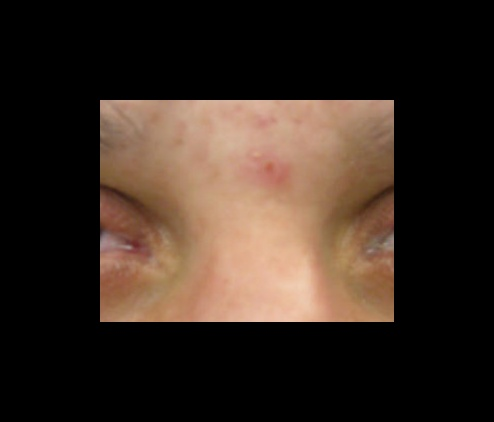SJS-TEN: (96, 99, 399, 324)
